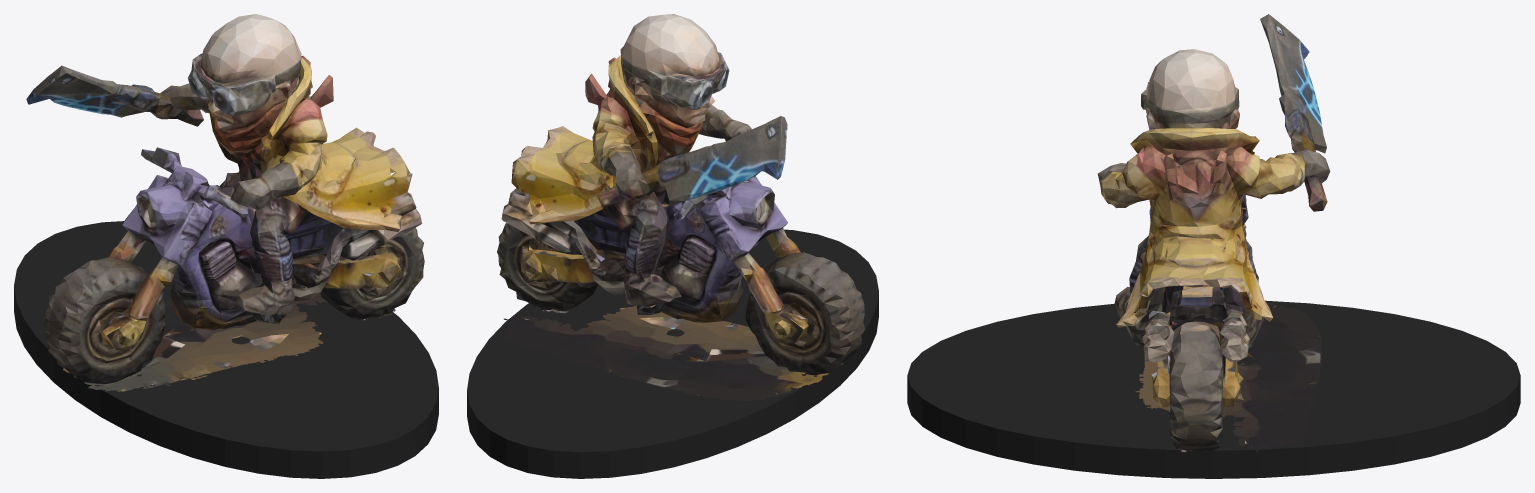
File: atalan-jackal-power.glb
3 renders of one model, left to right at view 1: azimuth 30°, elevation 25°; view 2: azimuth 150°, elevation 25°; view 3: azimuth 270°, elevation 25°, orthographic. The views are drawn at different scales.
Parts seen in each view (by area): view 1: figure, base; view 2: figure, base; view 3: base, figure.
Part boxes in pixels (bbox=[...]): figure: bbox=[26, 14, 424, 391]; base: bbox=[14, 221, 438, 478]; figure: bbox=[497, 14, 865, 401]; base: bbox=[467, 229, 878, 478]; base: bbox=[907, 300, 1520, 478]; figure: bbox=[1097, 14, 1330, 452].
Bounding box in the file's own units: 1.66 × 1.52 × 2.36.
Materials: 2 (1 with a texture image).
